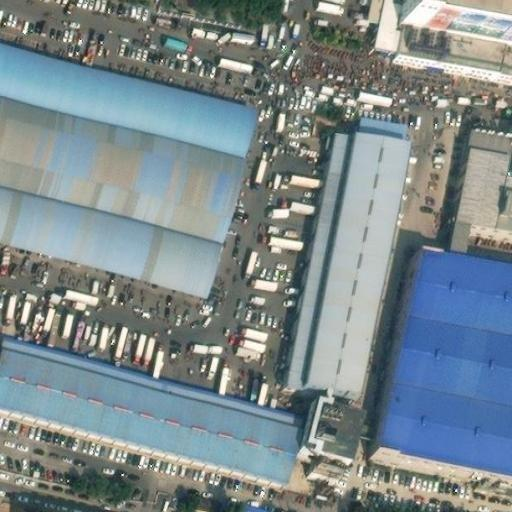building: (0, 33, 258, 291), (0, 332, 306, 476), (279, 112, 404, 394), (370, 249, 512, 481), (446, 123, 512, 239), (299, 386, 355, 455), (260, 229, 299, 249), (212, 49, 251, 68), (440, 226, 460, 257), (245, 270, 275, 289), (283, 195, 310, 209)
